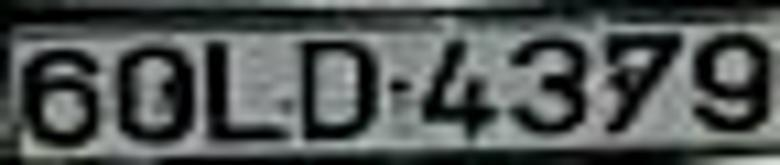-: (389, 75, 416, 97)
0: (114, 46, 199, 141)
3: (511, 35, 588, 139)
4: (426, 32, 503, 139)
6: (21, 48, 101, 152)
7: (606, 29, 681, 136)
9: (689, 29, 773, 131)
D: (304, 36, 380, 141)
L: (203, 37, 293, 144)
